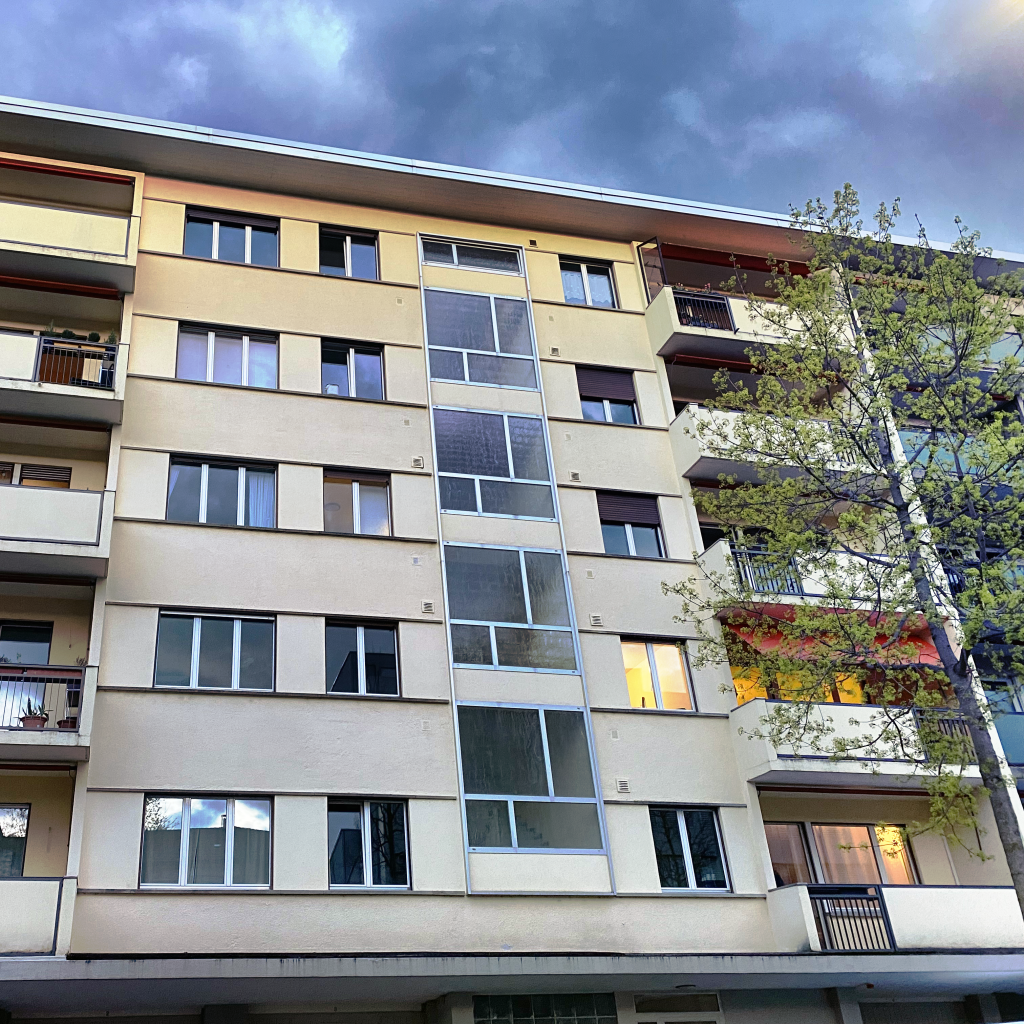glass panel: (459, 705, 547, 794), (445, 545, 526, 622), (433, 409, 508, 476), (425, 290, 494, 351), (514, 801, 601, 849), (545, 710, 593, 796), (812, 825, 881, 884), (495, 626, 575, 670), (140, 798, 181, 883), (683, 810, 726, 888), (186, 798, 225, 883), (524, 551, 568, 625), (369, 802, 407, 885), (232, 799, 269, 884), (650, 808, 689, 887), (764, 822, 811, 884), (480, 479, 553, 518), (328, 802, 363, 883), (155, 616, 193, 686), (652, 644, 692, 710), (508, 416, 548, 479), (238, 620, 273, 689), (468, 353, 536, 388), (198, 618, 233, 686), (875, 825, 914, 884), (621, 642, 656, 707), (364, 627, 397, 694), (325, 624, 357, 692), (0, 622, 51, 664), (466, 800, 511, 847), (495, 298, 532, 354), (0, 806, 29, 877), (167, 463, 201, 522), (206, 466, 238, 525), (457, 245, 519, 273), (245, 469, 274, 527), (451, 624, 492, 665), (359, 482, 389, 535), (325, 478, 353, 533), (176, 331, 207, 380), (213, 333, 242, 384), (247, 339, 276, 388), (322, 343, 349, 395), (439, 476, 477, 511), (355, 351, 382, 399), (319, 230, 345, 275), (184, 217, 212, 257), (217, 223, 245, 263), (351, 236, 377, 279), (429, 349, 464, 380), (250, 227, 277, 266), (587, 266, 613, 306), (561, 262, 585, 303), (632, 524, 661, 557), (601, 524, 629, 554), (422, 240, 454, 264), (609, 401, 635, 423), (581, 399, 605, 421)
